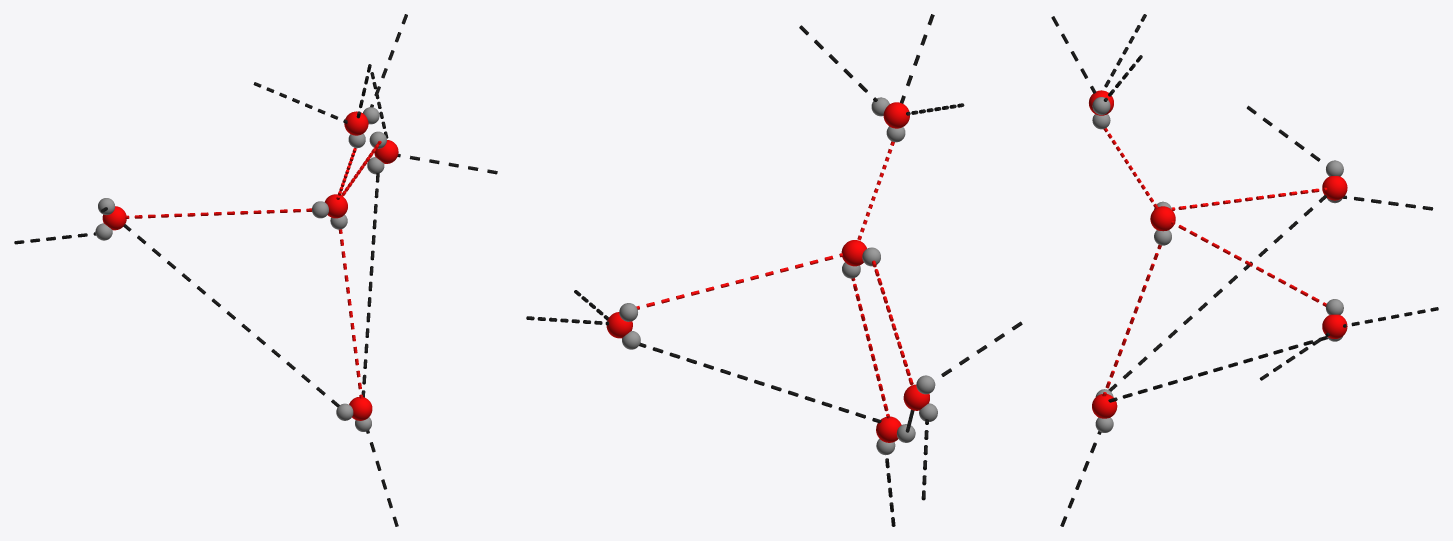
The model's file is jingti2.FBX.
3 views of the same model, side by side, from view 1: azimuth 30°, elevation 25°; view 2: azimuth 150°, elevation 25°; view 3: azimuth 270°, elevation 25° (orthographic). The views are drawn at different scales.
Parts seen in each view (by area): view 1: hui (×2); view 2: hui; view 3: hong (×6), hui (×2).
Part boxes in pixels (box(x1,y1,x2,y2)): hui (×2): box(123, 173, 379, 407); hui: box(639, 342, 881, 423); hong (×6): box(1092, 176, 1347, 418); hui (×2): box(1108, 195, 1327, 402).
Bounding box in the file's own units: 134 × 151 × 107.
